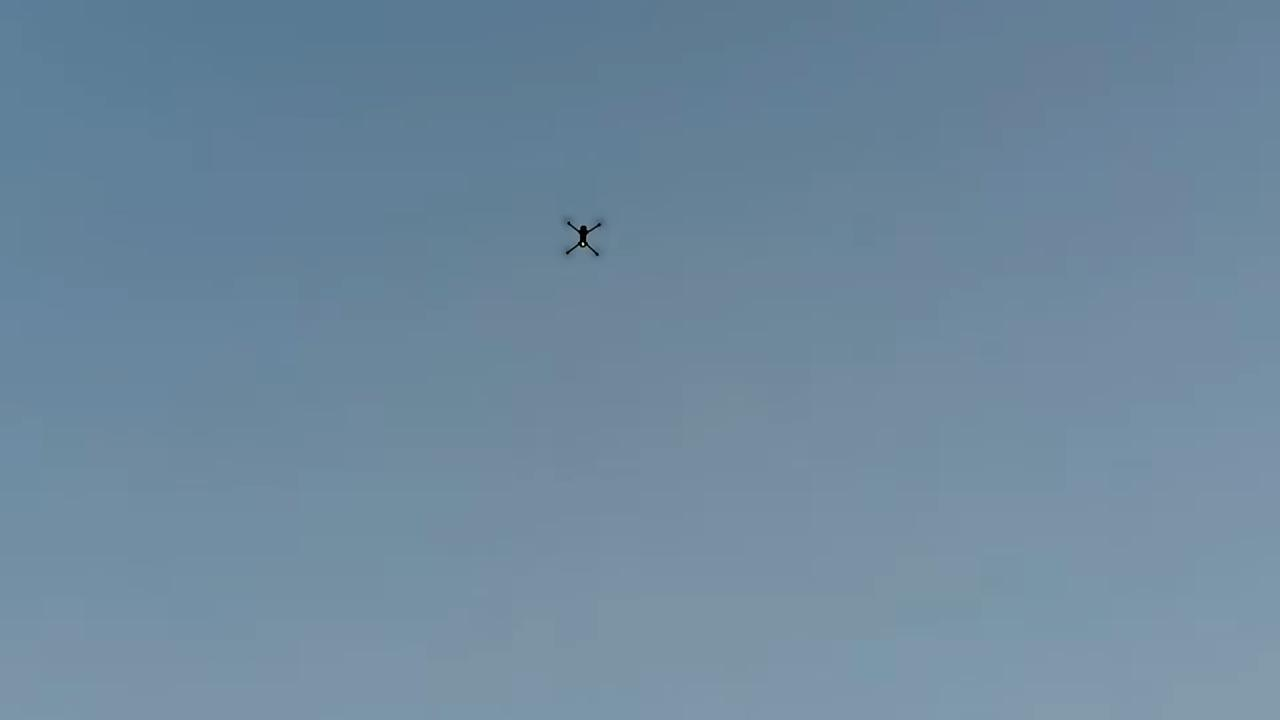Drone: (550, 210, 610, 267)
